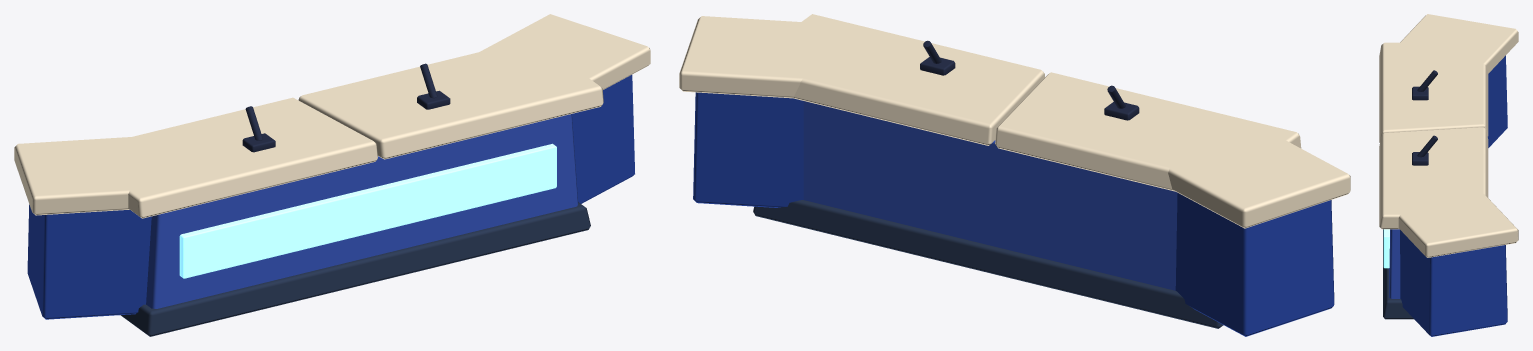
Rendered from broadcast_desk.glb.
3 renders of one model, left to right at view 1: azimuth 30°, elevation 25°; view 2: azimuth 150°, elevation 25°; view 3: azimuth 270°, elevation 25°, orthographic. The views are drawn at different scales.
Visible parts, largest first — view 1: broadcast_desk; view 2: broadcast_desk; view 3: broadcast_desk.
Boxes of the visible parts, <box> form: broadcast_desk: <box>14,14,650,336</box>; broadcast_desk: <box>679,14,1350,336</box>; broadcast_desk: <box>1379,14,1518,336</box>.
Size of the model in its own units: 4.89 by 1.32 by 1.24.
